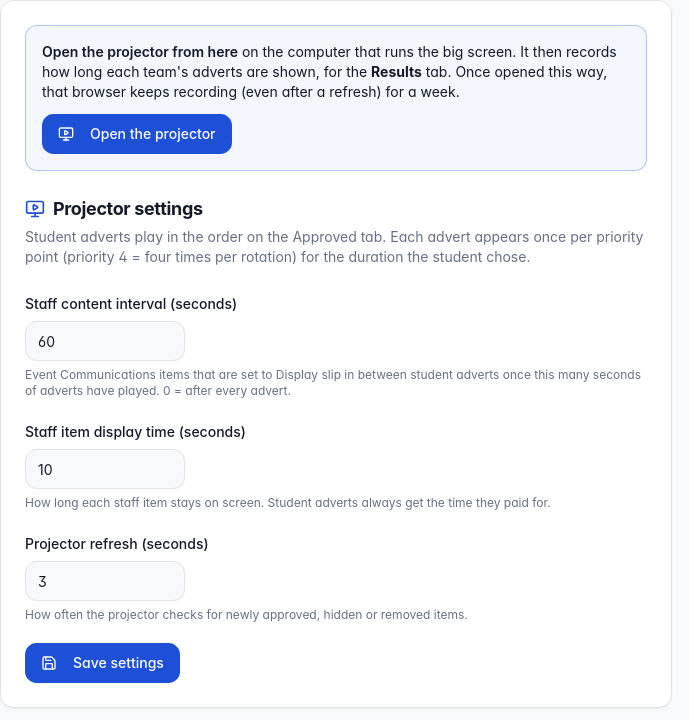
Scenario: ProjectorSettingsPanel › won't save values outside the allowed range
Replace the text in the number field labelled "Projector refresh (seconds)" with "1" at (105, 581), box [25, 561, 185, 601]
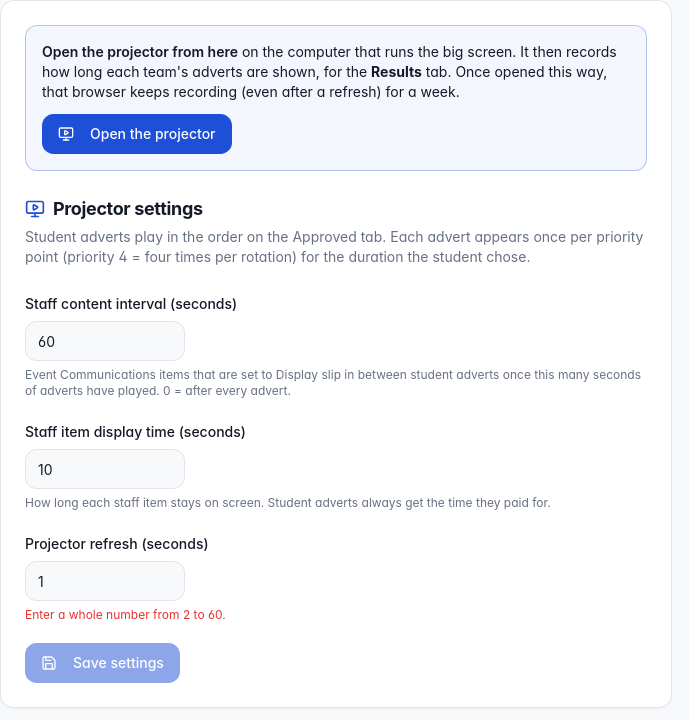
Result: the text "Enter a whole number from 2 to 60." is shown at [25, 607, 226, 622]
Result: the button "Save settings" is disabled at [25, 643, 180, 683]
